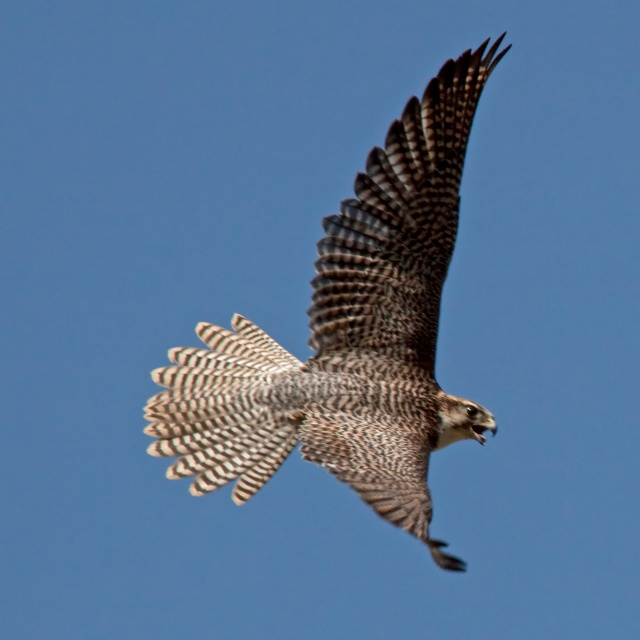Eagle: (140, 28, 517, 577)
